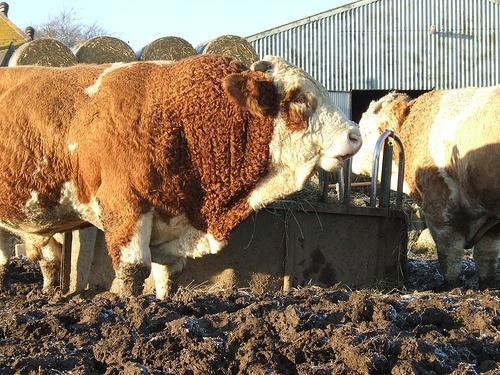cow: (1, 53, 364, 297), (352, 87, 500, 290)
